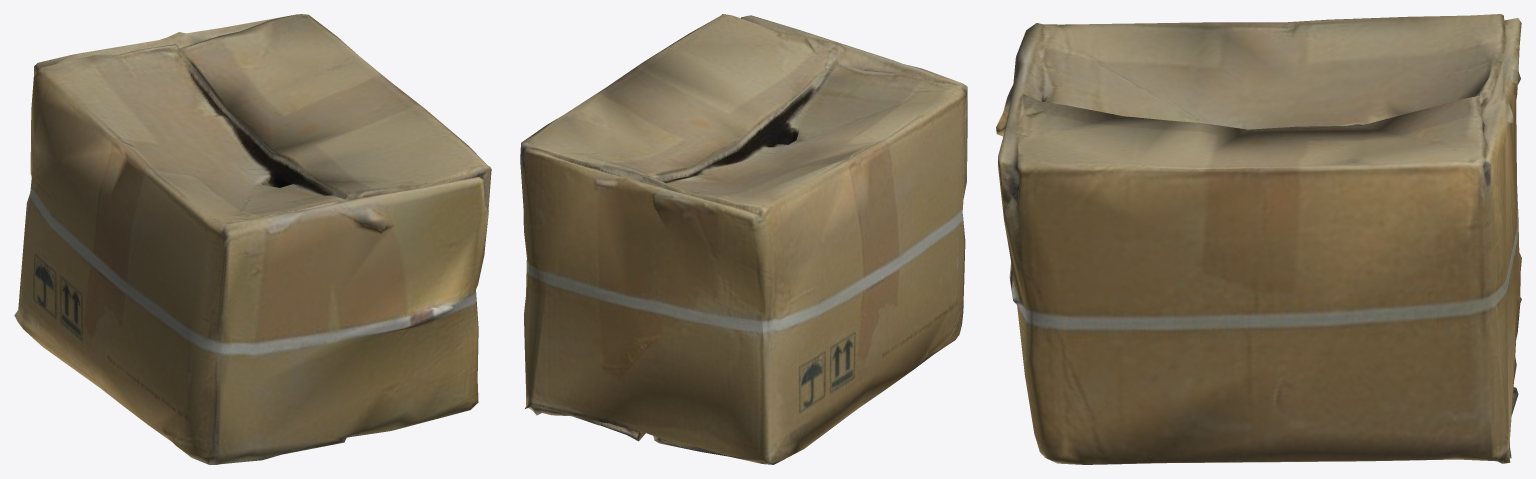
File: cardboard_box_01.glb
3 renders of one model, left to right at view 1: azimuth 30°, elevation 25°; view 2: azimuth 150°, elevation 25°; view 3: azimuth 270°, elevation 25°, orthographic. The views are drawn at different scales.
Parts seen in each view (by area): view 1: cardboard_box_01; view 2: cardboard_box_01; view 3: cardboard_box_01.
Boxes of the visible parts, left/top/right/bottom form: cardboard_box_01: left=14, top=14, right=491, bottom=464; cardboard_box_01: left=520, top=14, right=967, bottom=464; cardboard_box_01: left=996, top=14, right=1521, bottom=464.
Bounding box in the file's own units: 0.3867 × 0.3407 × 0.5159.
Materials: 1 (1 with a texture image).
